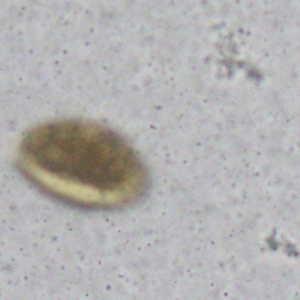Fasciola_hepatica_egg: (12, 118, 150, 210)
